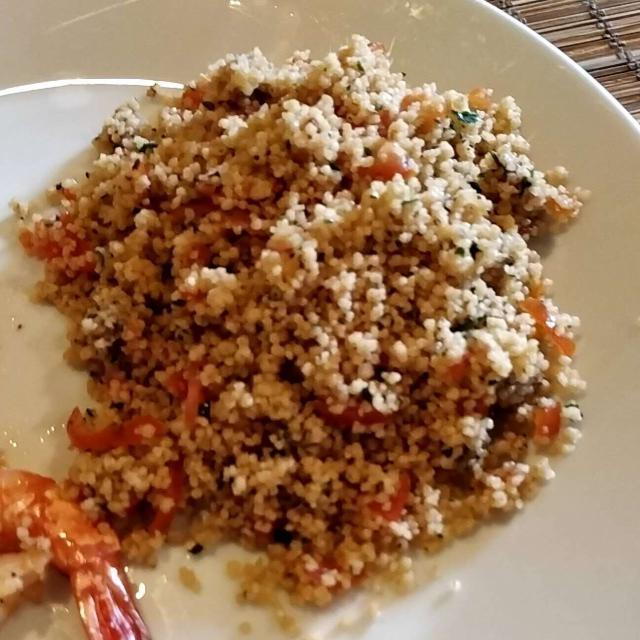couscous: (58, 34, 567, 610)
